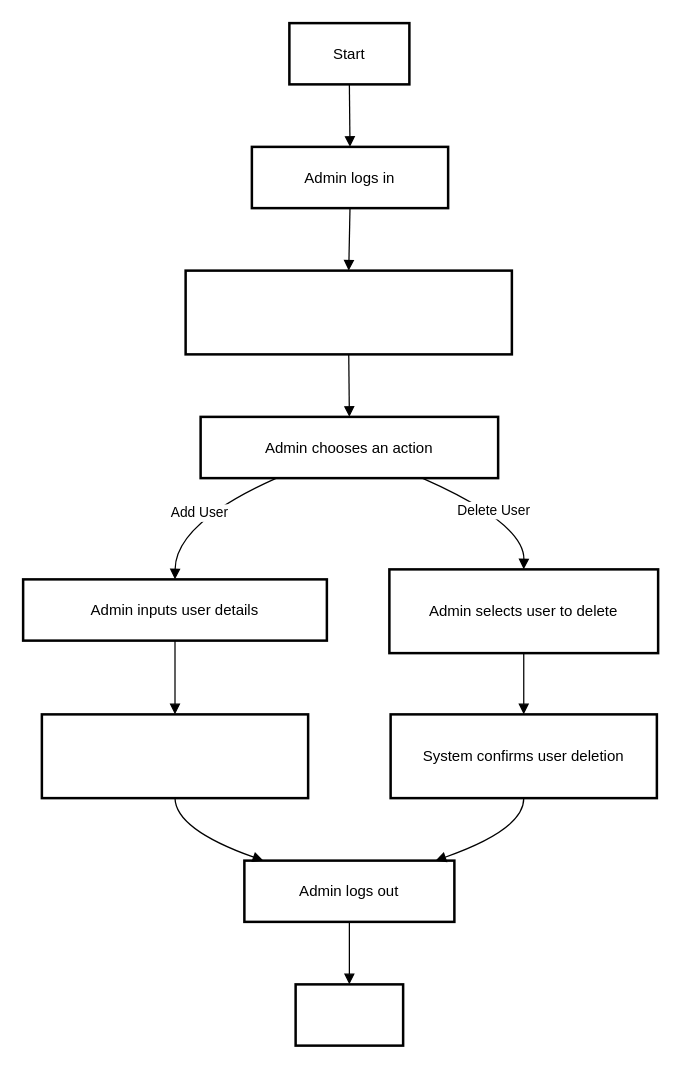
This 680x1068 diagram has some shape labels left out. Here are the shapes that lost their labels. From the top down, the centre of each, then its label:
the point at 348,312: Admin selects 'Manage Users'
the point at 174,755: System confirms user addition
the point at 349,1014: End
